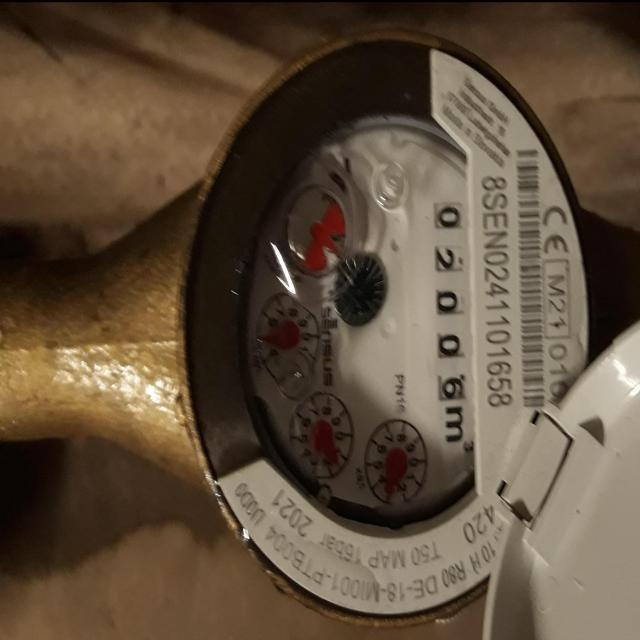gaz_meter: (186, 42, 591, 617)
indication: (428, 192, 477, 457)
